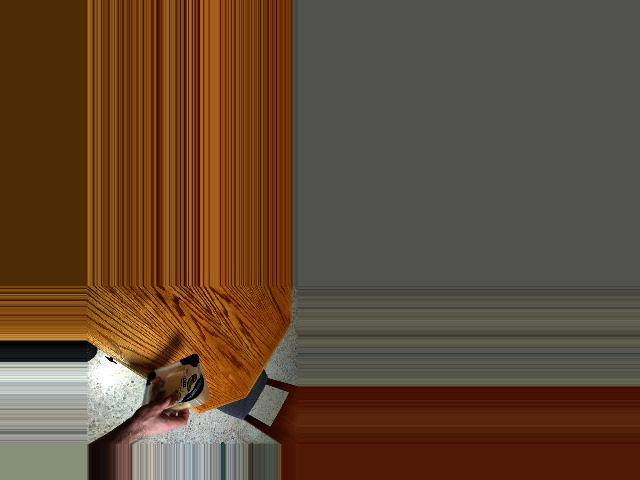cheese: (135, 358, 204, 409)
